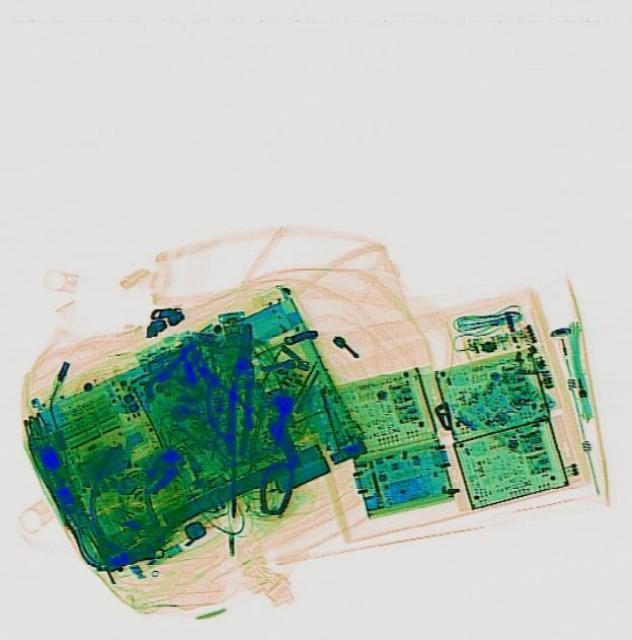Pliers: (169, 330, 259, 446), (222, 318, 258, 456)
